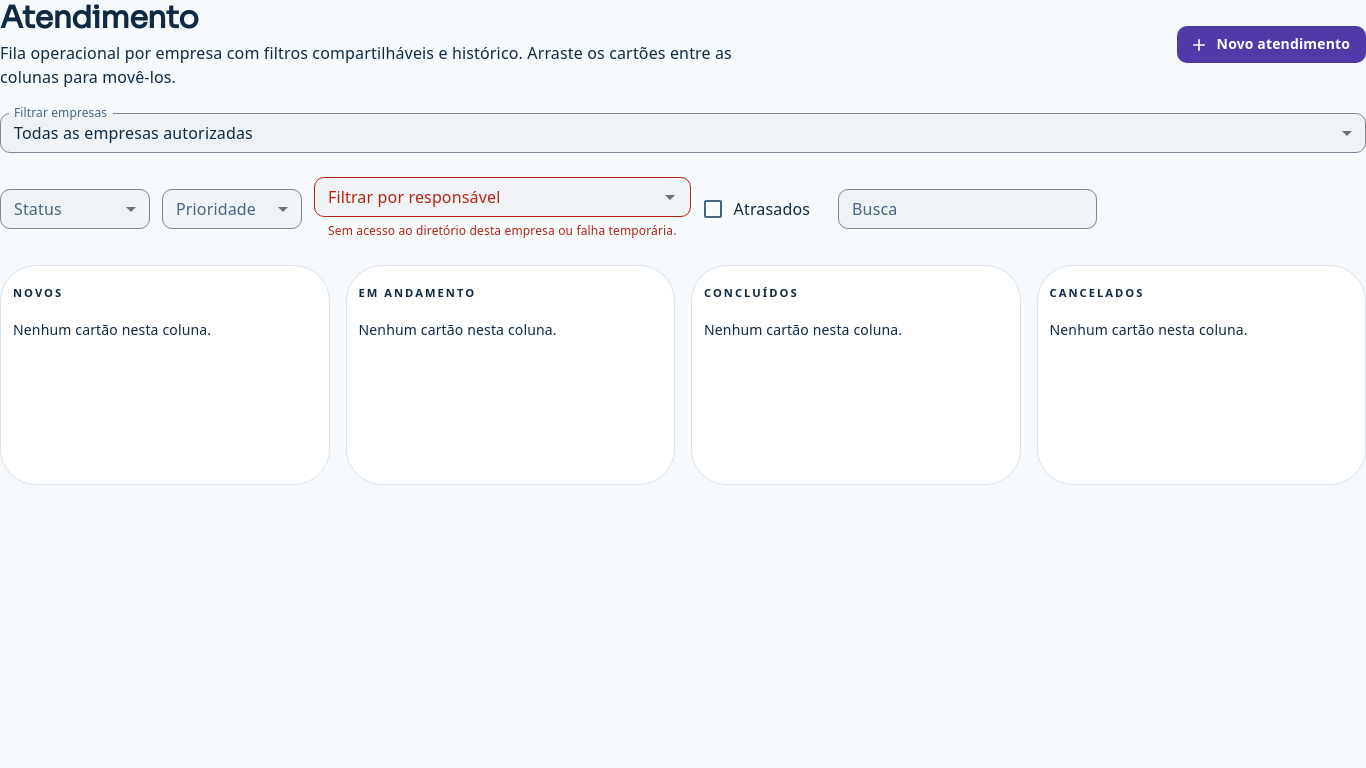
Scenario: AtendimentoPage › enables creation for an exact create-capable company even when it cannot read the queue
Expected: the dropdown named "Filtrar empresas" reads "Todas as empresas autorizadas", [14,122,253,144]
Click the button "Novo atendimento". click: (1271, 45)
box: [1177,26,1365,63]
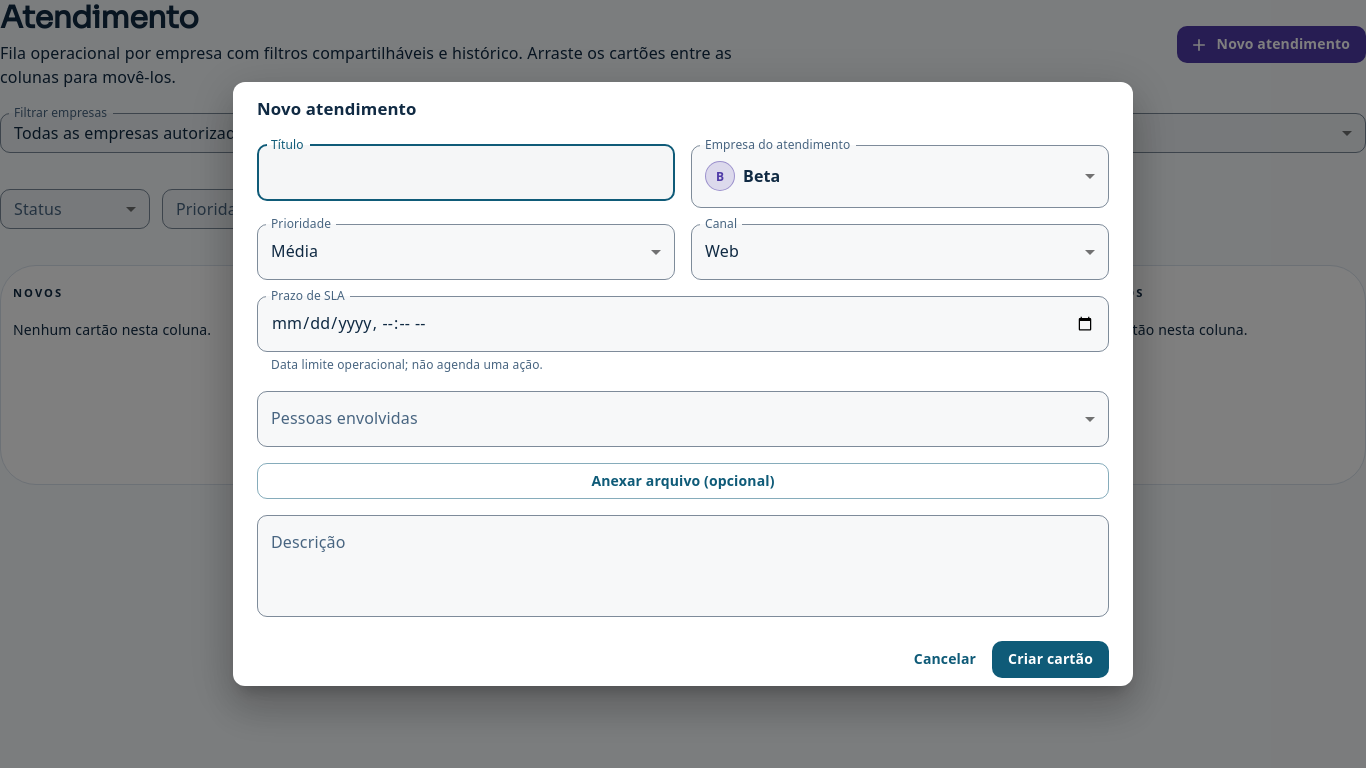
Now the dropdown named "Empresa do atendimento" shows "Beta", box [705,161,780,191]
